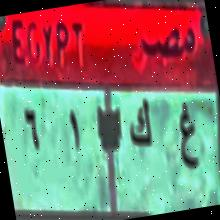1: (66, 106, 86, 158)
6: (19, 106, 46, 160)
ghayn: (169, 96, 206, 181)
kaaf: (118, 88, 159, 162)
